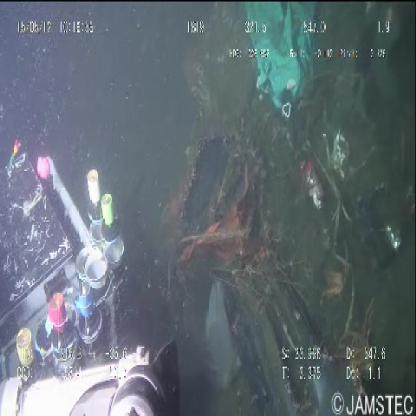Rác: (237, 0, 325, 133), (178, 274, 249, 396)
